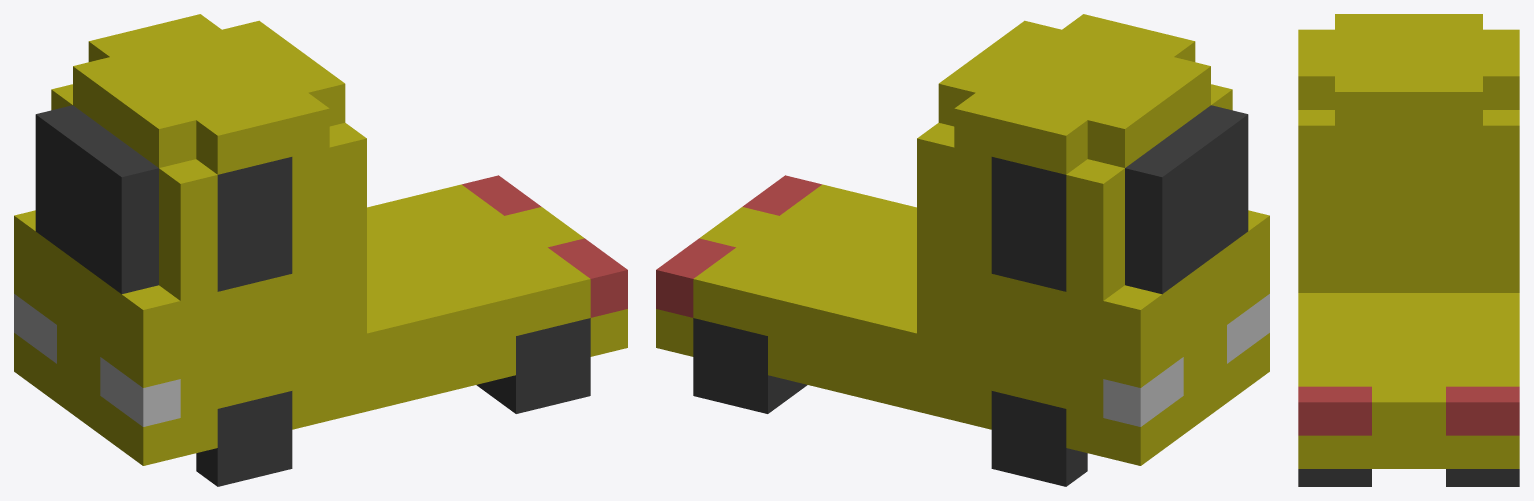
Rendered from truck-v2-yellow.gltf.
3 renders of one model, left to right at view 1: azimuth 30°, elevation 25°; view 2: azimuth 150°, elevation 25°; view 3: azimuth 270°, elevation 25°, orthographic. The views are drawn at different scales.
Parts seen in each view (by area): view 1: model, wheels; view 2: model, wheels; view 3: model, wheels.
Part boxes in pixels (<box>): model: <box>14,14,627,465</box>; wheels: <box>196,318,590,486</box>; model: <box>656,14,1269,465</box>; wheels: <box>693,318,1087,486</box>; model: <box>1298,14,1519,468</box>; wheels: <box>1298,469,1519,486</box>.
Size of the model in its own units: 1.3 by 0.9 by 0.6.
2 materials, 2 textured.
